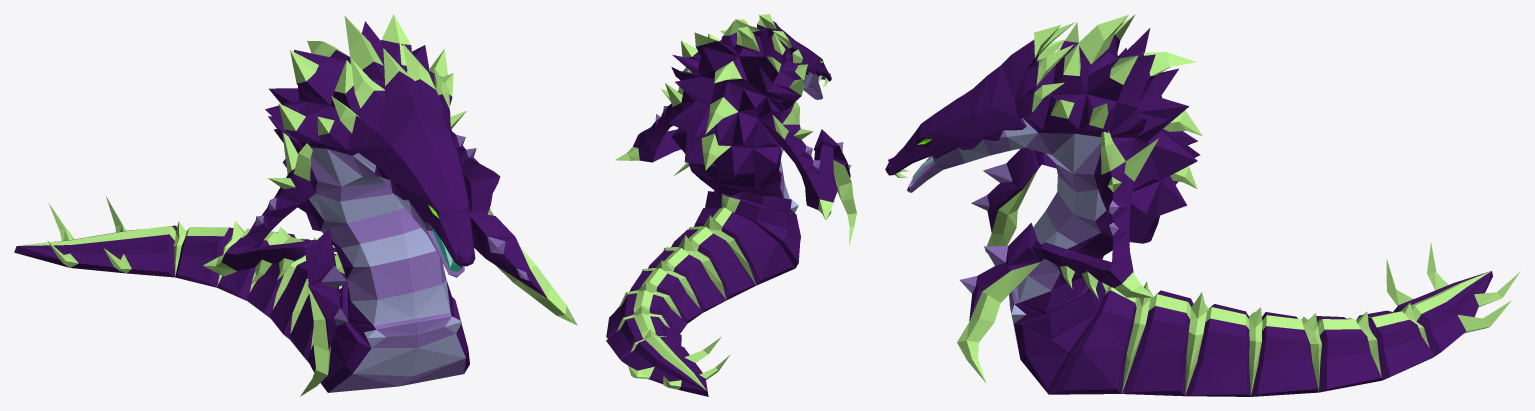
3 views of the same model, side by side, from view 1: azimuth 30°, elevation 25°; view 2: azimuth 150°, elevation 25°; view 3: azimuth 270°, elevation 25° (orthographic). The views are drawn at different scales.
Visible parts, largest first — view 1: Alien_Serpent; view 2: Alien_Serpent; view 3: Alien_Serpent.
Boxes of the visible parts, <box> form: Alien_Serpent: <box>14,14,577,396</box>; Alien_Serpent: <box>606,14,856,396</box>; Alien_Serpent: <box>885,14,1520,396</box>.
Bounding box in the file's own units: 198 × 216 × 361.
Materials: 1 (1 with a texture image).
